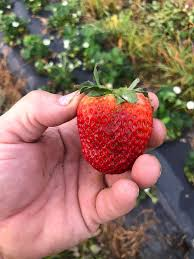ripe: (74, 83, 160, 177)
